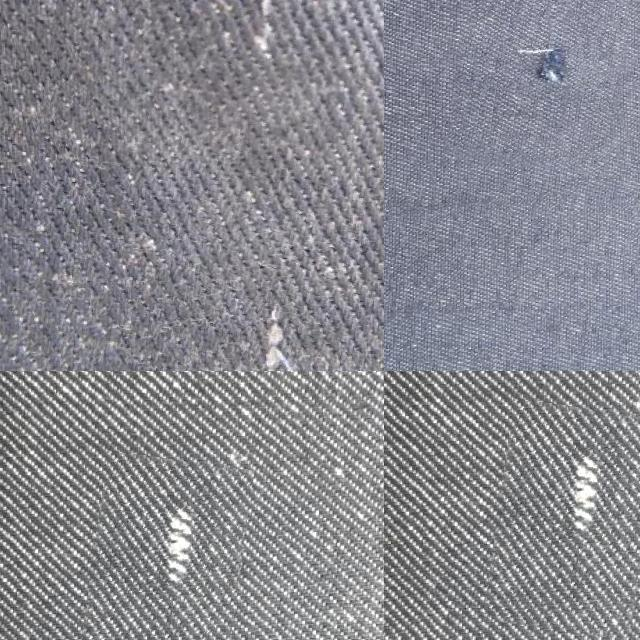stains: (17, 0, 384, 371), (489, 403, 640, 636), (449, 0, 627, 172), (83, 455, 245, 640)
